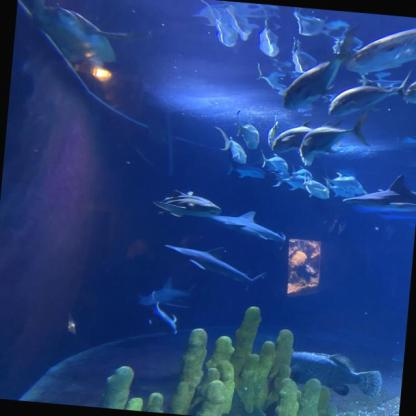fish: (283, 20, 360, 116), (327, 62, 410, 123), (287, 349, 384, 399), (300, 104, 374, 164), (344, 23, 416, 80), (271, 118, 348, 160), (211, 127, 249, 164), (232, 110, 261, 150), (322, 168, 365, 194), (147, 301, 179, 335), (223, 158, 266, 179), (269, 170, 310, 192), (301, 172, 331, 200), (321, 176, 356, 198), (259, 150, 289, 171), (403, 66, 415, 106), (290, 164, 314, 180)
shark: (155, 241, 268, 293), (340, 170, 415, 224), (210, 206, 290, 248), (152, 187, 224, 221), (137, 274, 194, 310)
